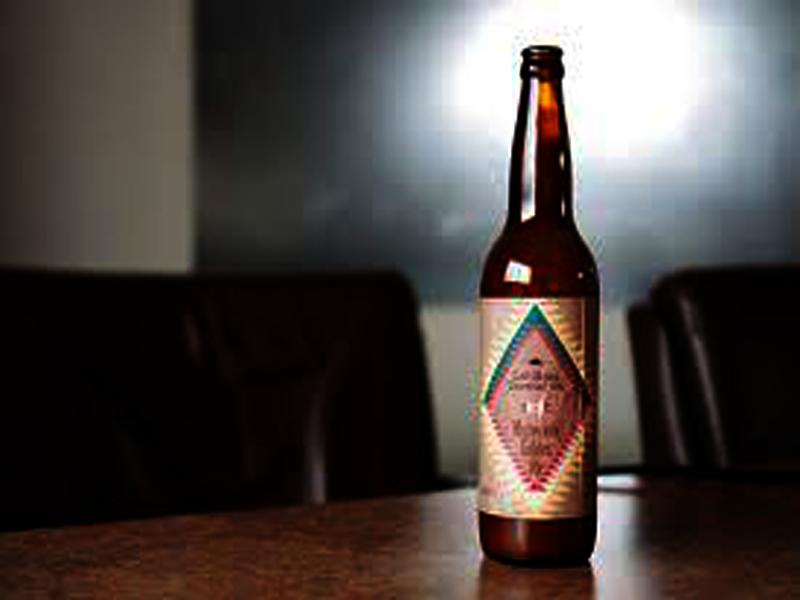Beer: (483, 49, 596, 564)
